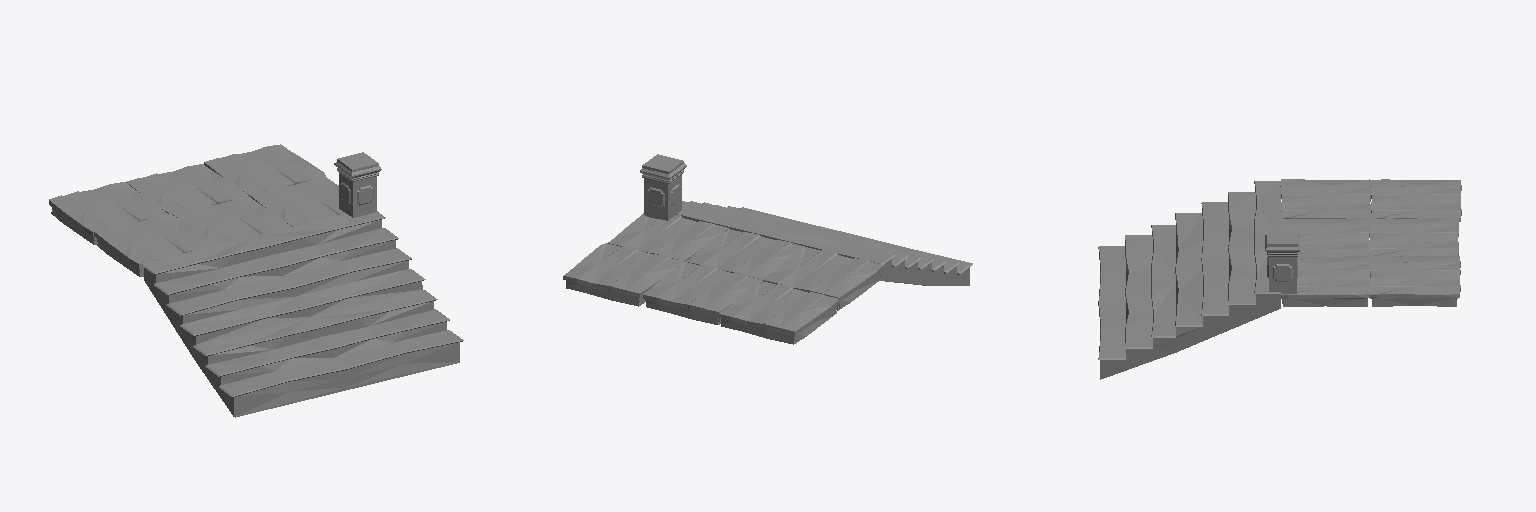
The model's file is mapTest.obj.
The picture shows the model from 3 angles: view 1: azimuth 30°, elevation 25°; view 2: azimuth 150°, elevation 25°; view 3: azimuth 270°, elevation 25°; orthographic projection.
Parts seen in each view (by area): view 1: IntStairsPoor_WideSteps, PlatformWooden, Skirting_Pillar; view 2: PlatformWooden, IntStairsPoor_WideSteps, Skirting_Pillar; view 3: IntStairsPoor_WideSteps, PlatformWooden, Skirting_Pillar.
Part boxes in pixels (bbox=[...]): IntStairsPoor_WideSteps: bbox=[141, 211, 463, 417]; PlatformWooden: bbox=[49, 144, 345, 276]; Skirting_Pillar: bbox=[334, 152, 381, 217]; PlatformWooden: bbox=[563, 213, 883, 344]; IntStairsPoor_WideSteps: bbox=[676, 201, 972, 285]; Skirting_Pillar: bbox=[640, 154, 686, 220]; IntStairsPoor_WideSteps: bbox=[1098, 181, 1280, 379]; PlatformWooden: bbox=[1280, 179, 1461, 306]; Skirting_Pillar: bbox=[1265, 231, 1299, 293].
Bounding box in the file's own units: 19.54 × 10.83 × 25.96.